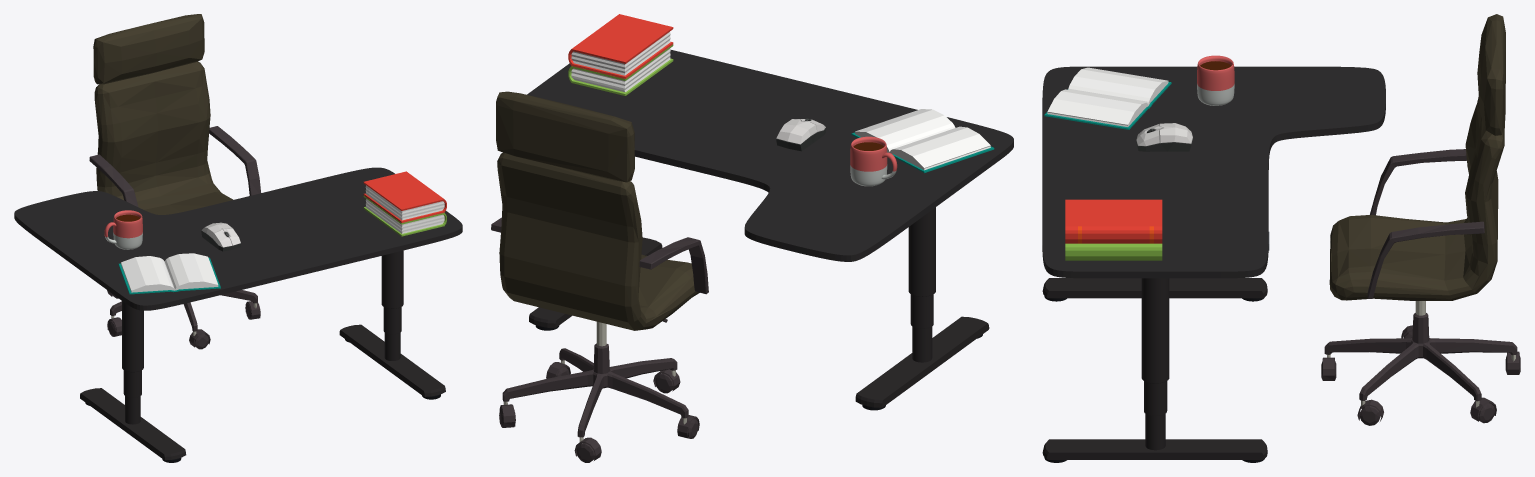
Rendered from Desk-transformed.glb.
The picture shows the model from 3 angles, left to right: view 1: azimuth 30°, elevation 25°; view 2: azimuth 150°, elevation 25°; view 3: azimuth 270°, elevation 25°; orthographic projection. The views are drawn at different scales.
Parts seen in each view (by area): view 1: Chair, Desk; view 2: Chair, Desk; view 3: Chair, Desk.
Part boxes in pixels (<box>): Chair: <box>14,14,462,462</box>; Desk: <box>201,222,240,251</box>; Chair: <box>491,14,1013,462</box>; Desk: <box>776,118,826,151</box>; Chair: <box>1042,14,1520,462</box>; Desk: <box>1136,123,1193,151</box>.
Bounding box in the file's own units: 1.45 × 1.14 × 1.43.
Materials: 2 (2 with a texture image).
